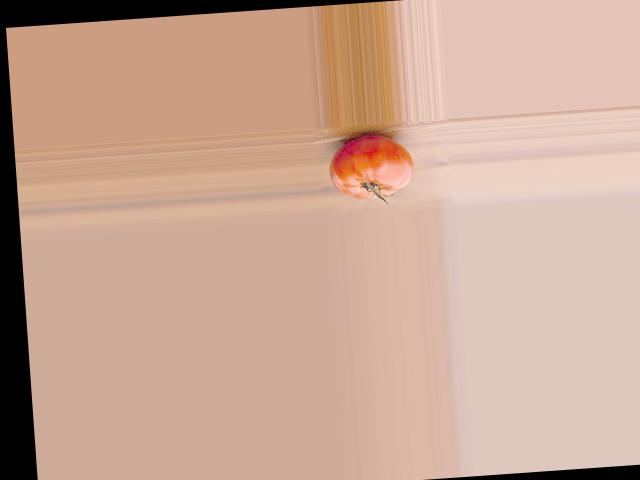tomato: (328, 131, 416, 201)
